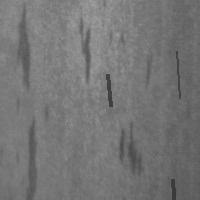inclusion: (8, 2, 38, 93), (69, 9, 99, 88), (18, 110, 43, 198), (115, 119, 146, 184), (136, 43, 159, 101), (105, 30, 128, 55), (174, 49, 181, 100), (105, 72, 112, 108), (170, 177, 176, 200)
